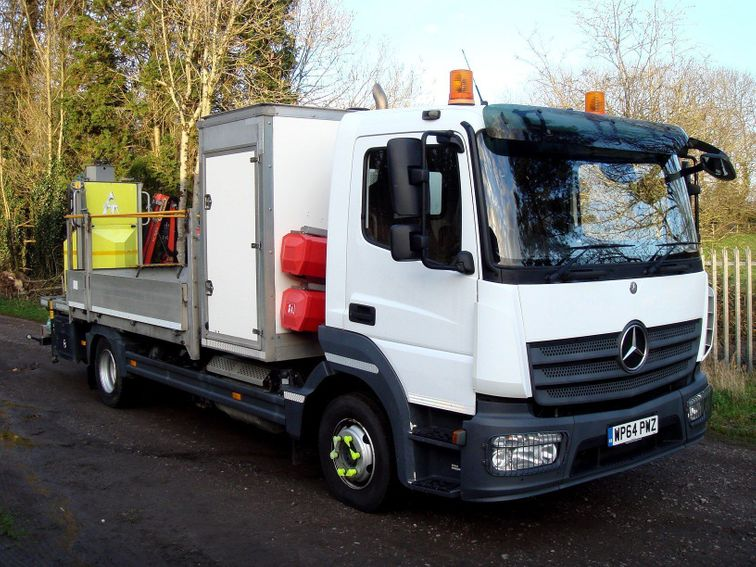Semi: (27, 68, 716, 510)
